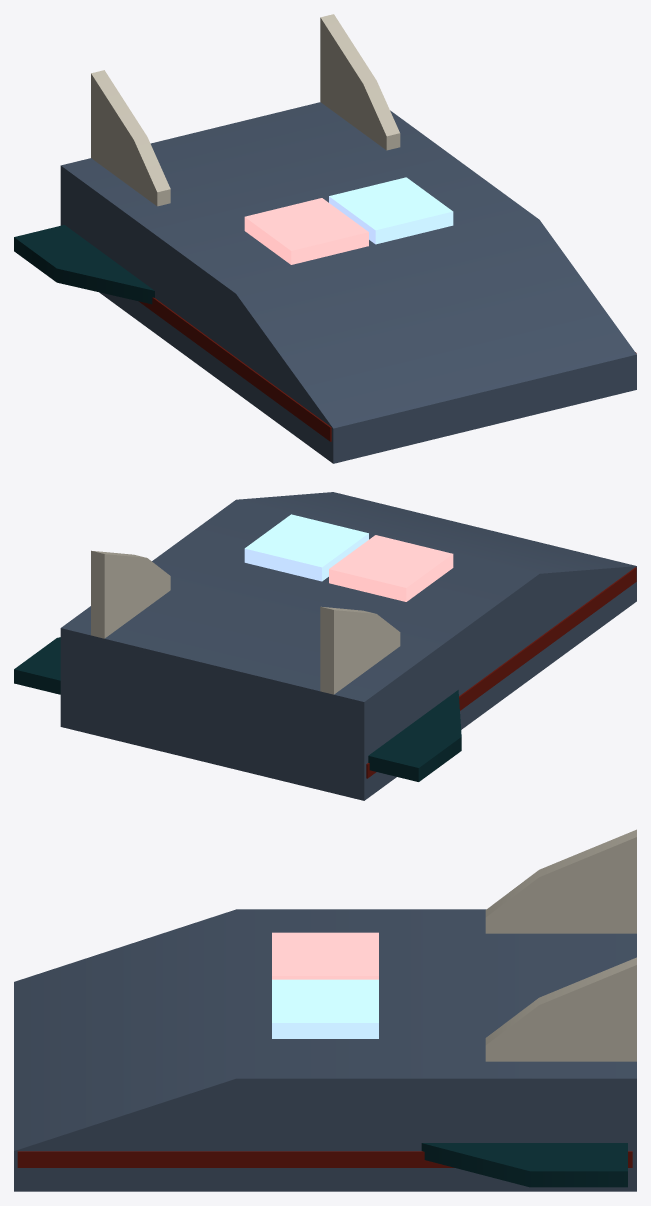
The model's file is patrol_craft.glb.
3 renders of one model, top to bottom at view 1: azimuth 30°, elevation 25°; view 2: azimuth 150°, elevation 25°; view 3: azimuth 270°, elevation 25°, orthographic. The views are drawn at different scales.
Parts seen in each view (by area): view 1: patrol_craft; view 2: patrol_craft; view 3: patrol_craft.
Part boxes in pixels (x1,y1,x2,y2): patrol_craft: (14, 14, 636, 463); patrol_craft: (14, 492, 636, 800); patrol_craft: (14, 829, 636, 1191).
Size of the model in its own units: 6 by 2.6 by 7.
